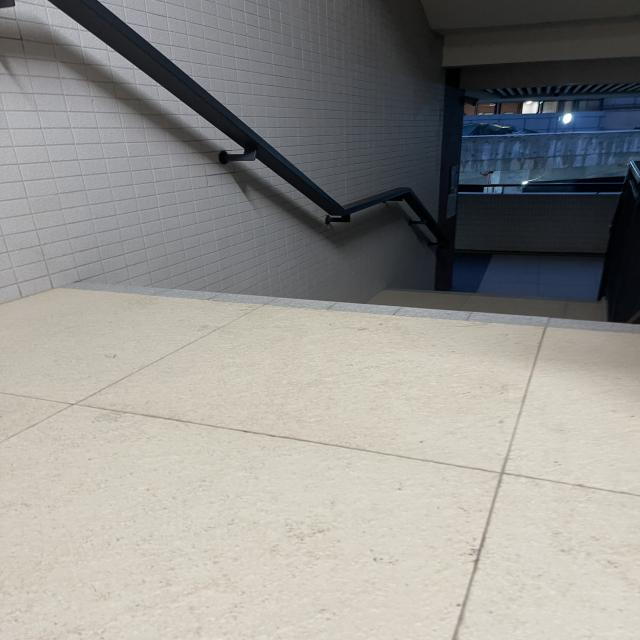Stairs: (58, 226, 640, 379)
